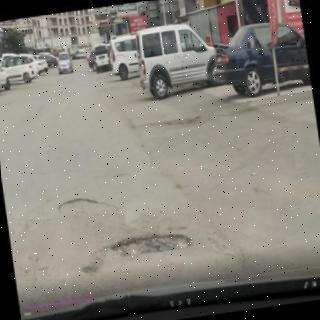pothole: (110, 234, 192, 260), (58, 198, 120, 216)
